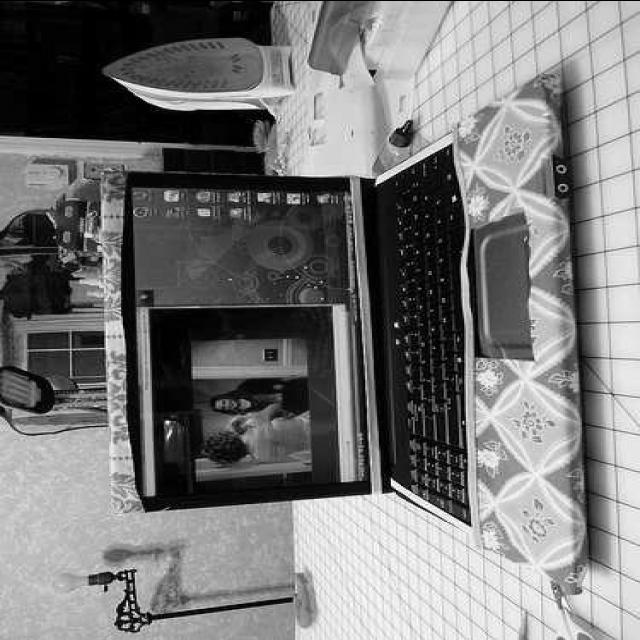laptop: (95, 140, 569, 532)
